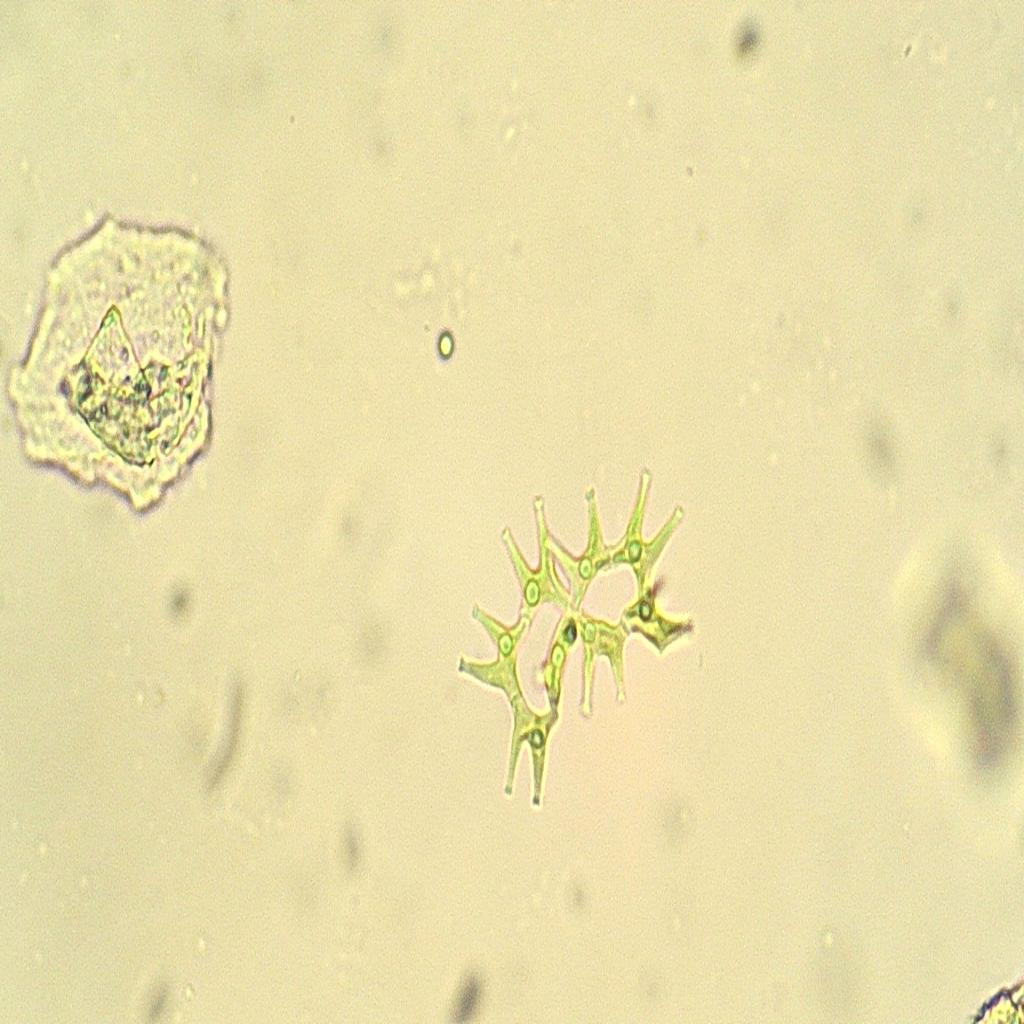Pediastrum_1TH: (440, 436, 704, 857)
